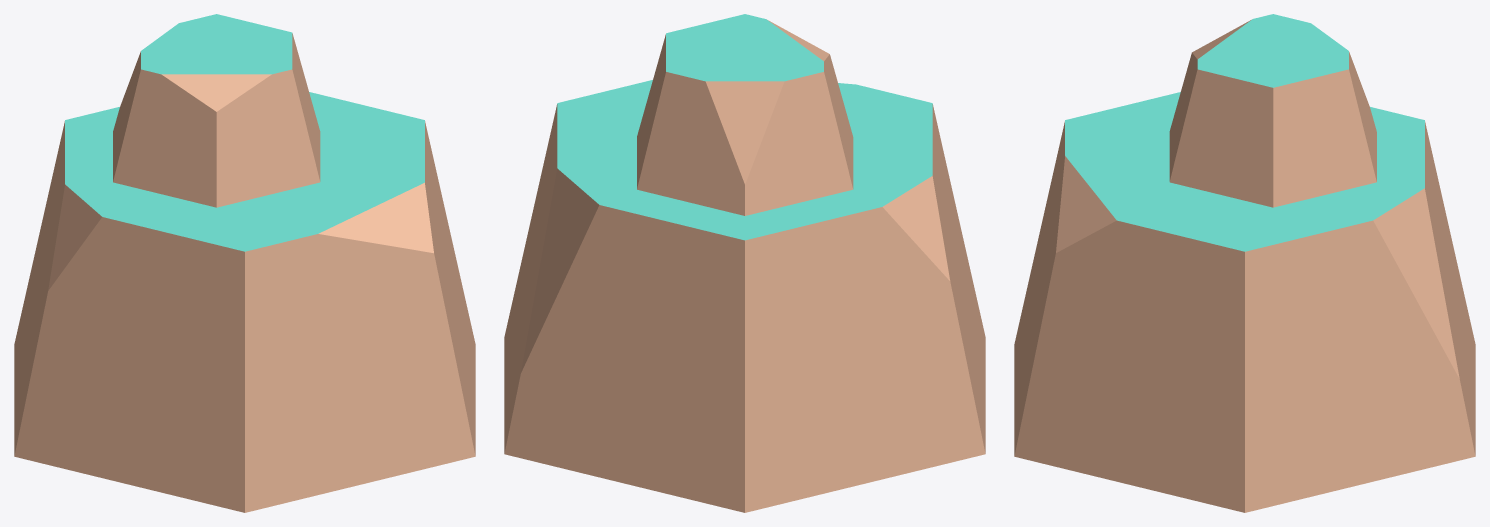
Rendered from rock_smallE.glb.
The picture shows the model from 3 angles, left to right: view 1: azimuth 30°, elevation 25°; view 2: azimuth 150°, elevation 25°; view 3: azimuth 270°, elevation 25°; orthographic projection. The views are drawn at different scales.
Parts seen in each view (by area): view 1: rock_smallE; view 2: rock_smallE; view 3: rock_smallE.
Part boxes in pixels (x1,y1,x2,y2): rock_smallE: (14, 14, 475, 512); rock_smallE: (504, 14, 985, 512); rock_smallE: (1014, 14, 1475, 512).
Bounding box in the file's own units: 0.3608 × 0.2562 × 0.3125.
Materials: 1 (1 with a texture image).
